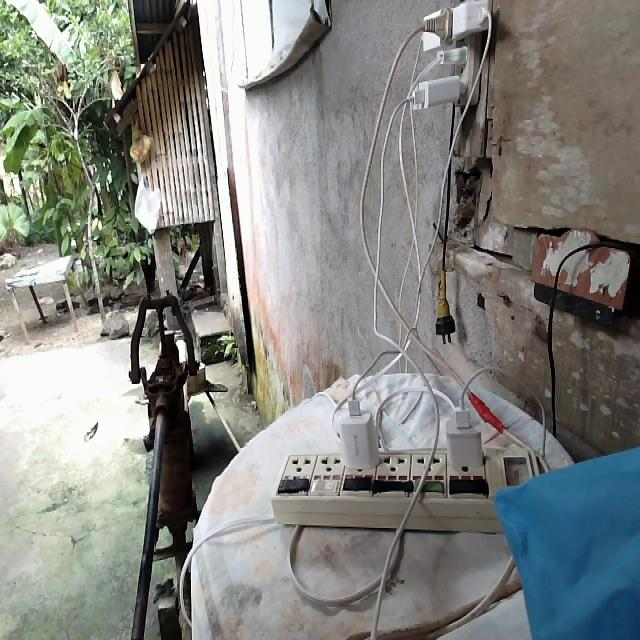-: (399, 1, 501, 116)
